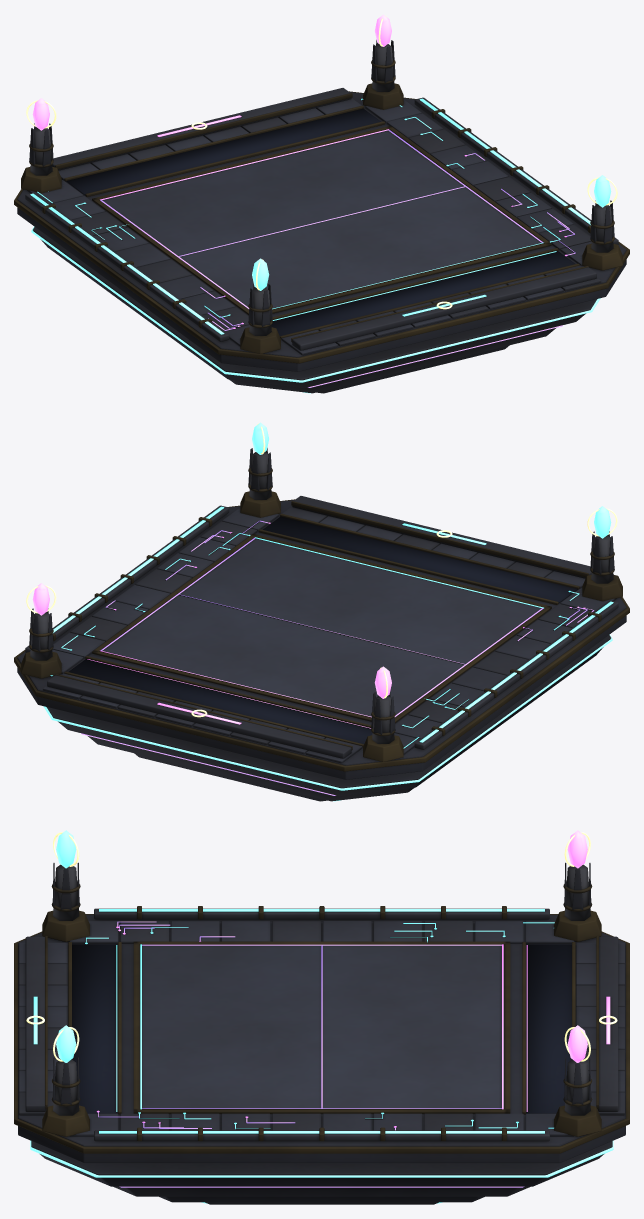
File: SM_ArenaBase_Space.glb
The picture shows the model from 3 angles, top to bottom: view 1: azimuth 30°, elevation 25°; view 2: azimuth 150°, elevation 25°; view 3: azimuth 270°, elevation 25°; orthographic projection. The views are drawn at different scales.
Visible parts, largest first — view 1: ArenaBase; view 2: ArenaBase; view 3: ArenaBase.
Boxes of the visible parts, bbox=[...] form: ArenaBase: bbox=[14, 14, 629, 393]; ArenaBase: bbox=[14, 422, 629, 801]; ArenaBase: bbox=[14, 830, 629, 1204].
Bounding box in the file's own units: 10.96 × 5.13 × 12.16.
Materials: 1 (1 with a texture image).
